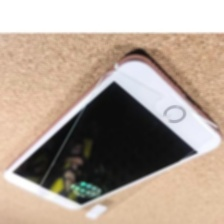phone: (0, 45, 223, 214)
